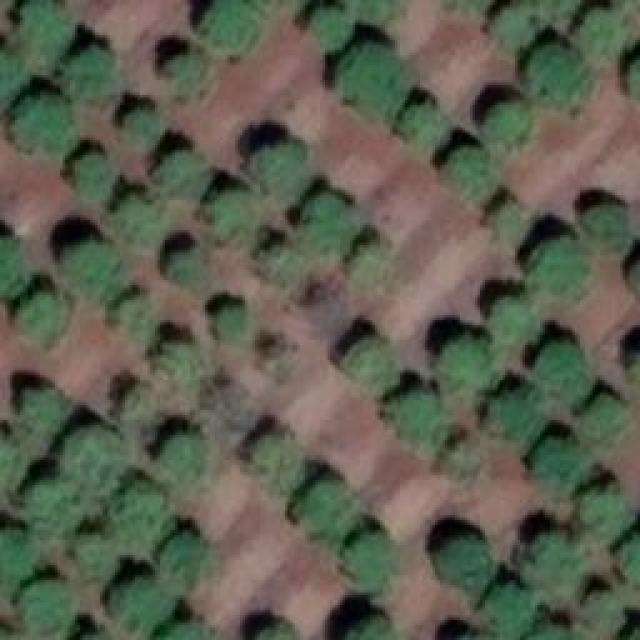Tree: (345, 45, 408, 115), (64, 425, 125, 495), (528, 43, 591, 106), (105, 480, 163, 545), (530, 235, 588, 300), (388, 390, 443, 455), (295, 477, 355, 535), (433, 535, 493, 593), (25, 478, 88, 533), (197, 0, 260, 52), (60, 240, 120, 293), (525, 530, 585, 583), (118, 575, 171, 633), (12, 95, 70, 148), (303, 190, 356, 248), (538, 338, 588, 398), (440, 333, 495, 386), (15, 290, 65, 348), (485, 383, 543, 433), (20, 580, 68, 638), (60, 50, 118, 98), (447, 140, 495, 198), (245, 143, 308, 186), (345, 530, 395, 583), (483, 585, 533, 633), (208, 193, 261, 238), (25, 0, 70, 52), (160, 432, 208, 480), (77, 530, 125, 578), (255, 435, 300, 485), (490, 295, 535, 345), (578, 485, 623, 535), (530, 438, 580, 483), (70, 150, 115, 200), (118, 195, 161, 245), (160, 533, 200, 586), (582, 393, 630, 436), (575, 10, 623, 53), (485, 100, 533, 143), (0, 528, 38, 581), (340, 337, 393, 375), (155, 152, 208, 190), (305, 5, 355, 45), (585, 203, 630, 246), (403, 103, 446, 148), (118, 385, 163, 425), (25, 388, 68, 428), (493, 5, 533, 48), (110, 292, 153, 330), (160, 340, 200, 380), (0, 235, 25, 298), (0, 438, 28, 493), (168, 53, 203, 96), (350, 240, 385, 283), (330, 617, 395, 640), (213, 300, 246, 338), (128, 107, 161, 145), (165, 250, 205, 280), (265, 248, 305, 273), (0, 52, 22, 92), (153, 625, 208, 640), (625, 533, 640, 586)
